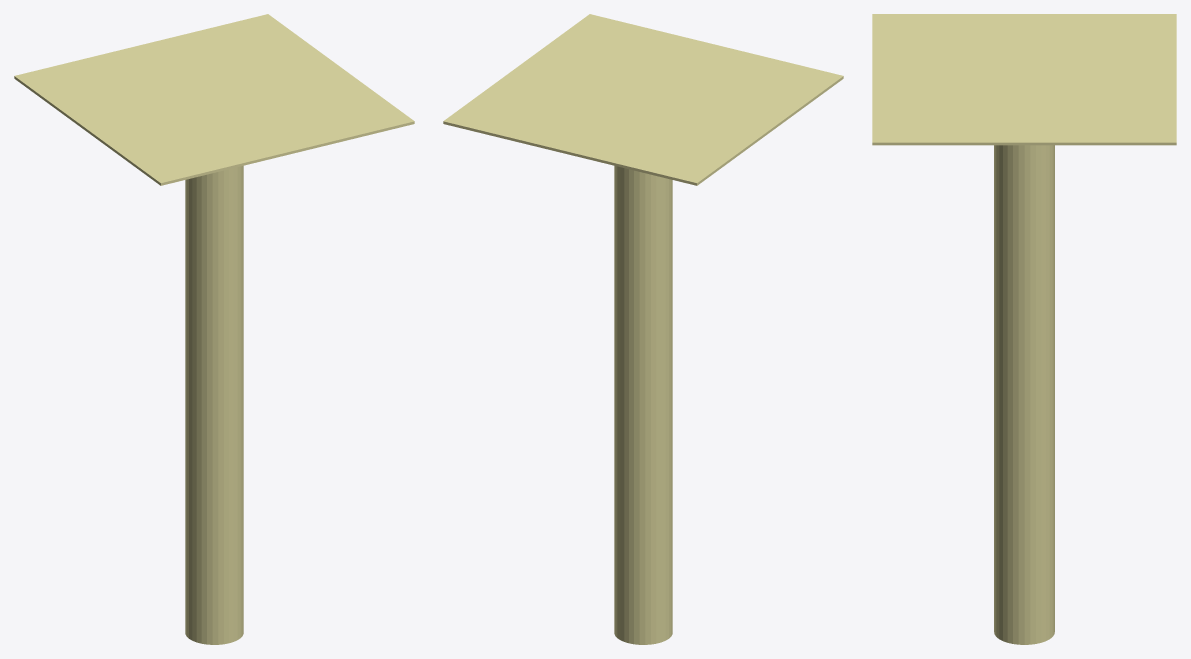
The model's file is task3_50_x_50.dae.
3 renders of one model, left to right at view 1: azimuth 30°, elevation 25°; view 2: azimuth 150°, elevation 25°; view 3: azimuth 270°, elevation 25°, orthographic. The views are drawn at different scales.
Parts seen in each view (by area): view 1: Cylinder; view 2: Cylinder; view 3: Cylinder.
Part boxes in pixels (bbox=[...]): Cylinder: bbox=[14, 14, 414, 644]; Cylinder: bbox=[443, 14, 843, 644]; Cylinder: bbox=[872, 14, 1176, 644].
Size of the model in its own units: 0.5002 by 0.5002 by 1.
